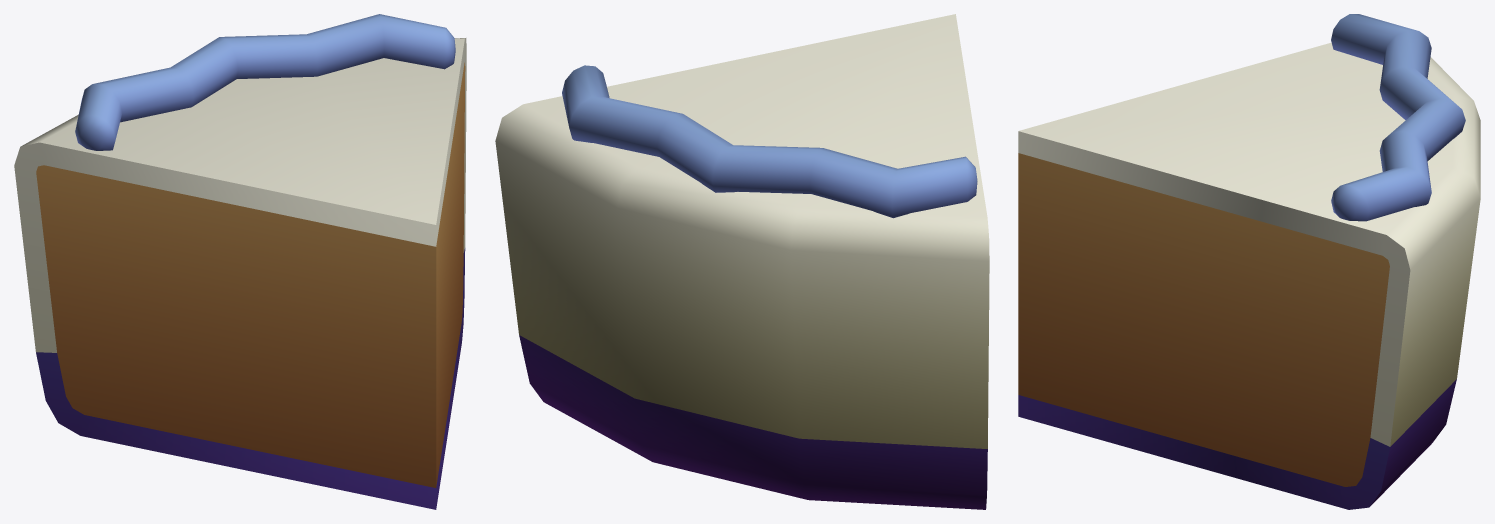
Rendered from Cake_Slice_01.glb.
The picture shows the model from 3 angles, left to right: view 1: azimuth 30°, elevation 25°; view 2: azimuth 150°, elevation 25°; view 3: azimuth 270°, elevation 25°; orthographic projection. The views are drawn at different scales.
Parts seen in each view (by area): view 1: Cake_Slice_01; view 2: Cake_Slice_01; view 3: Cake_Slice_01.
Part boxes in pixels (x1,y1,x2,y2): Cake_Slice_01: (14,14,466,509); Cake_Slice_01: (495,14,989,509); Cake_Slice_01: (1018,14,1480,509).
Bounding box in the file's own units: 0.6092 × 0.4078 × 0.5378.
Materials: 1 (1 with a texture image).
